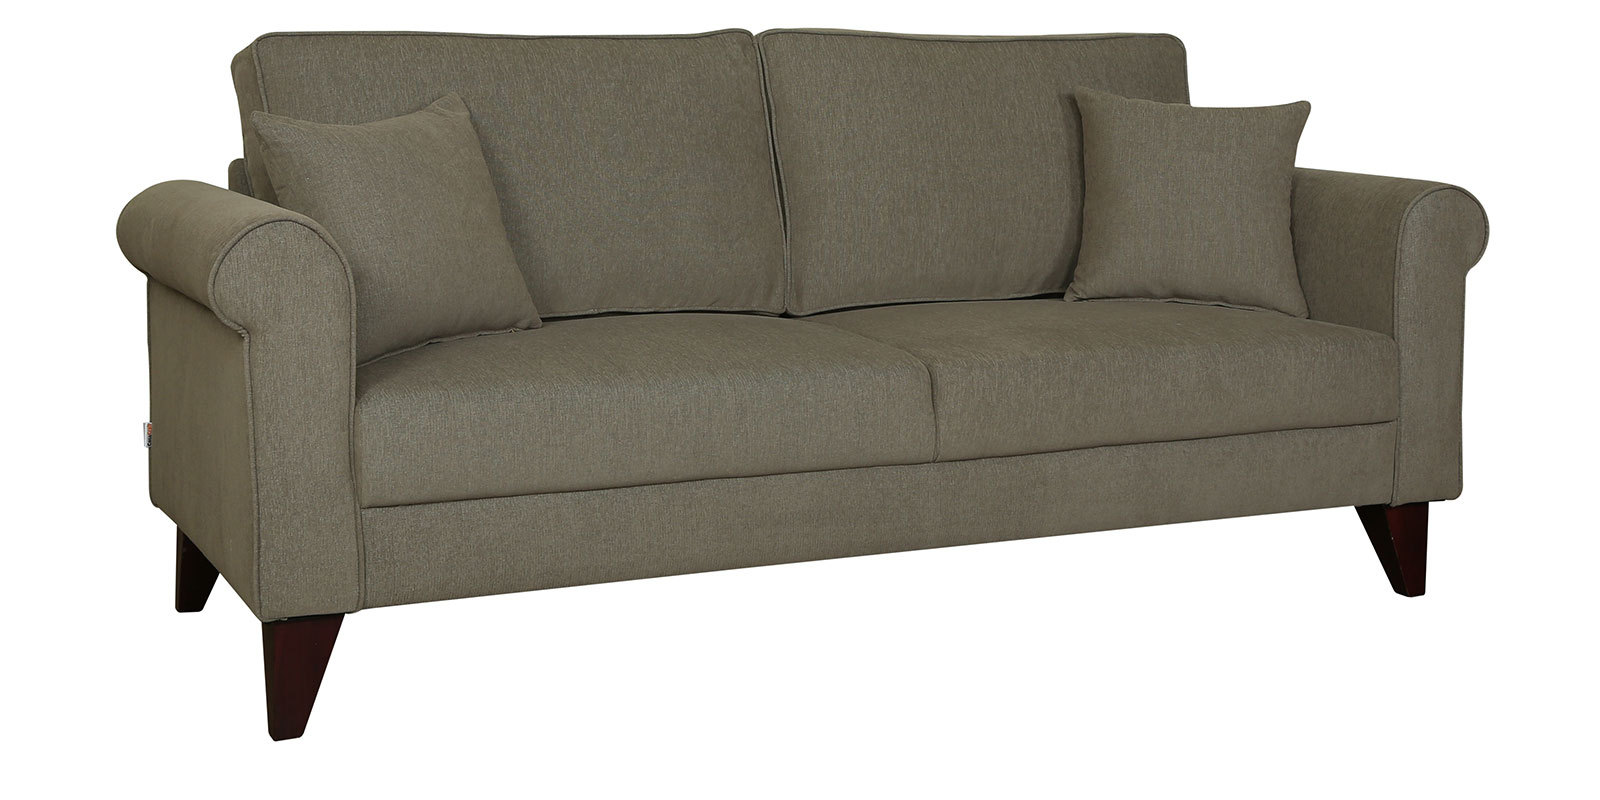Fuego Three Seater Sofa in Sandy Brown Colour by CasaCraft: (94, 11, 1521, 761)
